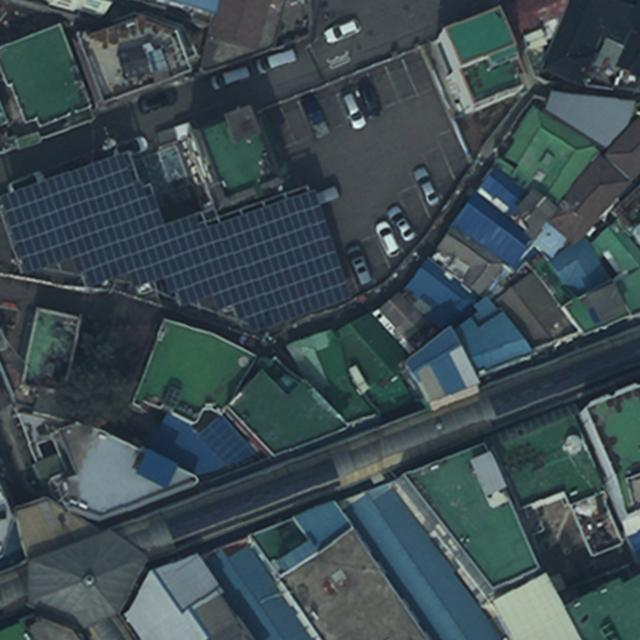panel: (0, 154, 354, 334)
